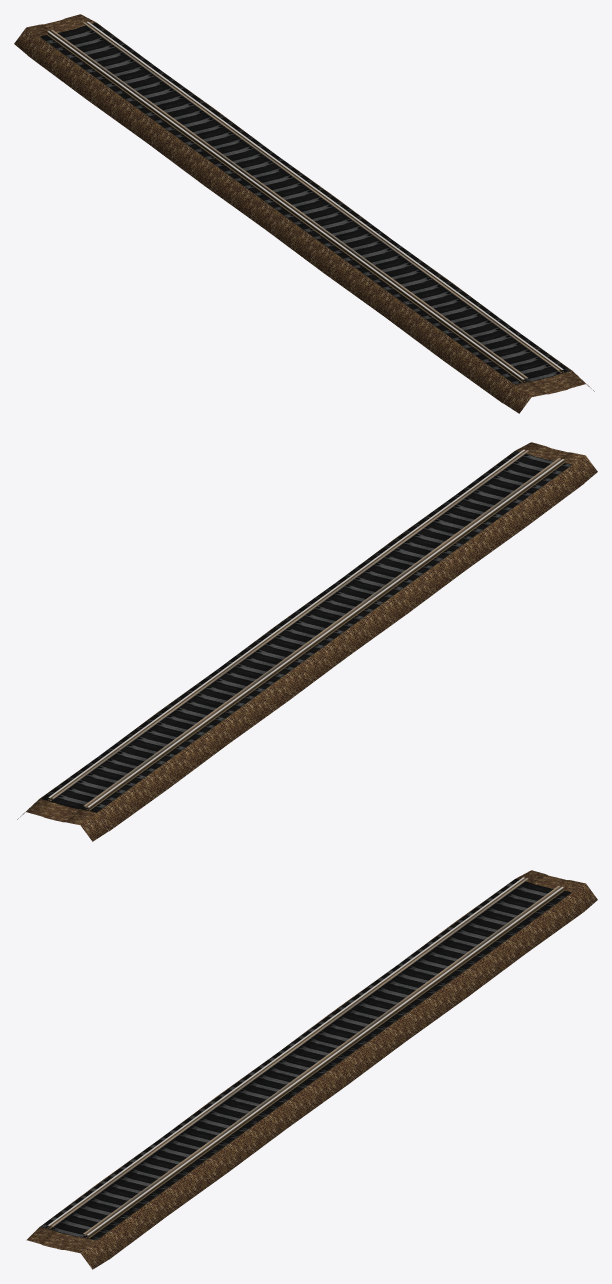
Rendered from HQ_1RAIL_100.glb.
3 views of the same model, one above another, from view 1: azimuth 30°, elevation 25°; view 2: azimuth 150°, elevation 25°; view 3: azimuth 330°, elevation 25° (orthographic).
Visible parts, largest first — view 1: obj1, R000_RG_R, R000_RG_L; view 2: obj1, R000_RG_R, R000_RG_L; view 3: obj1, R000_RG_L, R000_RG_R.
Part boxes in pixels (left/top/right/bottom): obj1: left=14, top=14, right=594, bottom=413; R000_RG_R: left=51, top=30, right=527, bottom=380; R000_RG_L: left=83, top=22, right=559, bottom=371; obj1: left=17, top=442, right=597, bottom=841; R000_RG_R: left=83, top=458, right=560, bottom=808; R000_RG_L: left=51, top=450, right=528, bottom=800; obj1: left=26, top=870, right=597, bottom=1269; R000_RG_L: left=83, top=885, right=560, bottom=1236; R000_RG_R: left=51, top=878, right=528, bottom=1226.
Size of the model in its own units: 10.09 by 2.22 by 106.
Materials: 6 (5 with a texture image).
